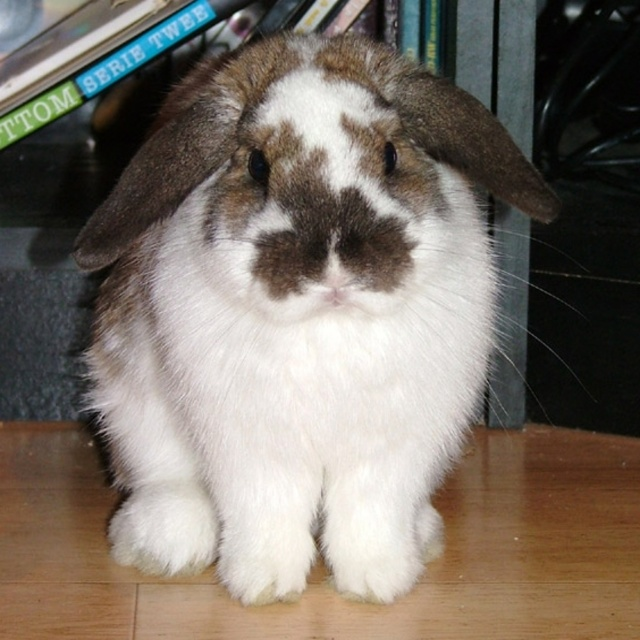Rabbit: (68, 29, 633, 611)
